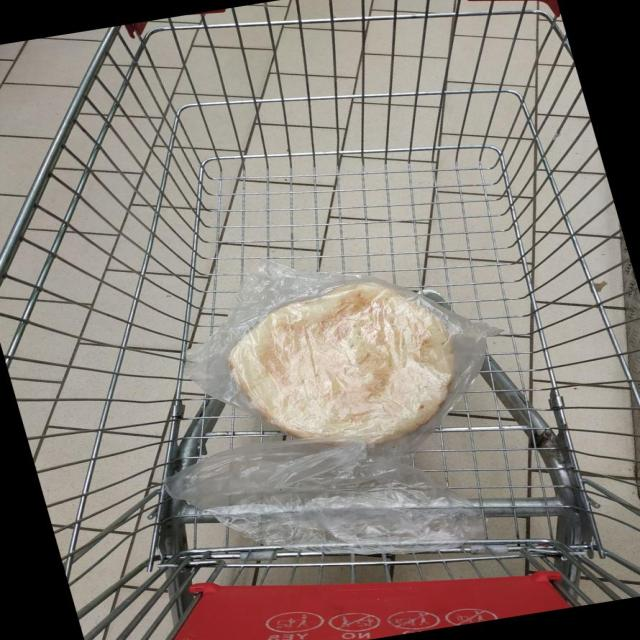Bread: (227, 282, 454, 443)
